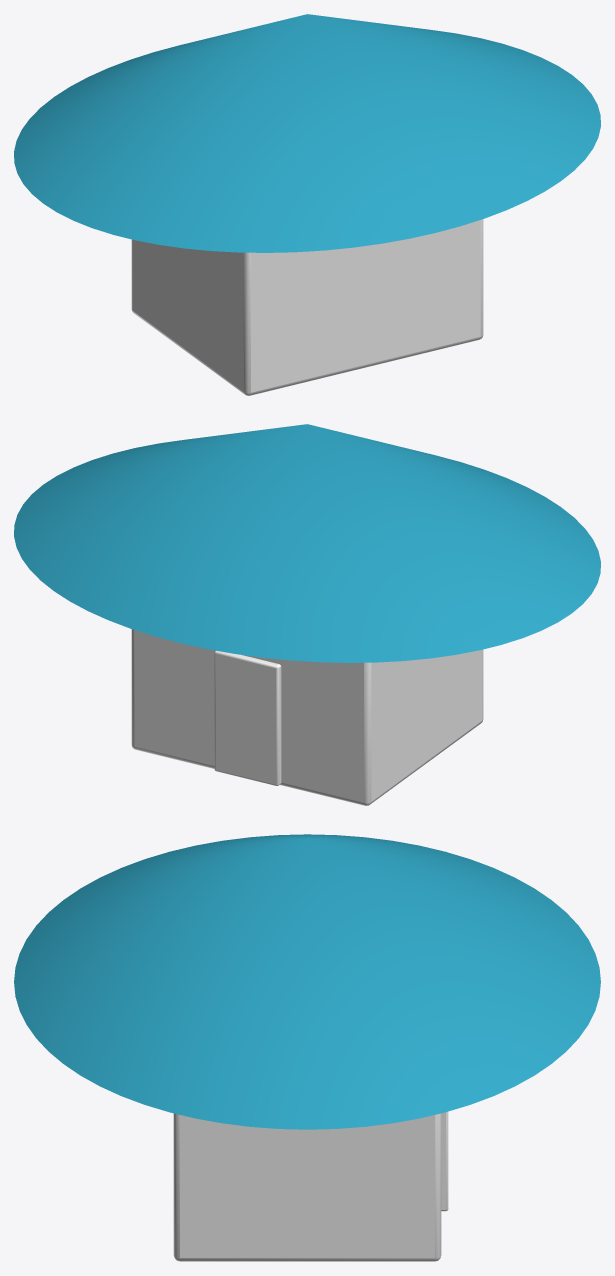
Rendered from beach_hut.glb.
3 renders of one model, top to bottom at view 1: azimuth 30°, elevation 25°; view 2: azimuth 150°, elevation 25°; view 3: azimuth 270°, elevation 25°, orthographic. The views are drawn at different scales.
Visible parts, largest first — view 1: HutRoof, Hut; view 2: HutRoof, Hut, HutDoor; view 3: HutRoof, Hut, HutDoor.
Part boxes in pixels (x1,y1,x2,y2): HutRoof: [14, 14, 600, 252]; Hut: [131, 219, 483, 395]; HutRoof: [14, 424, 600, 662]; Hut: [131, 629, 483, 805]; HutDoor: [214, 650, 281, 785]; HutRoof: [14, 834, 600, 1129]; Hut: [173, 1113, 441, 1261]; HutDoor: [441, 1111, 448, 1211].
Bounding box in the file's own units: 5.75 × 3.25 × 4.83.
